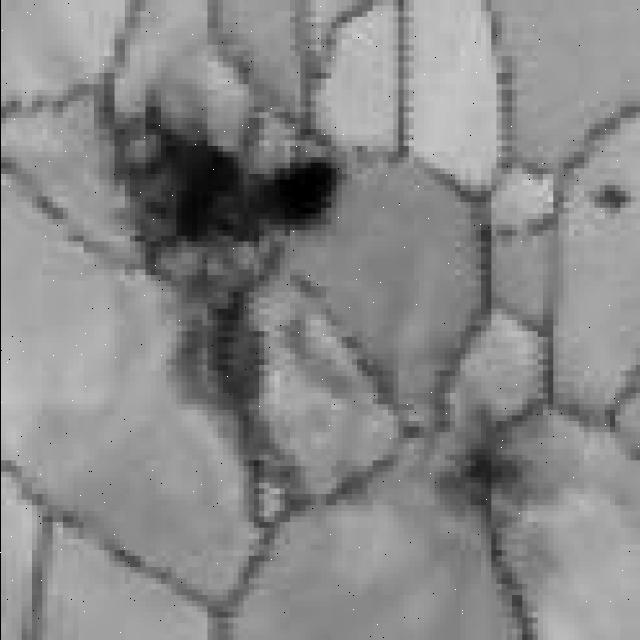good_void: (139, 146, 330, 241), (439, 449, 516, 505), (588, 191, 630, 213)
